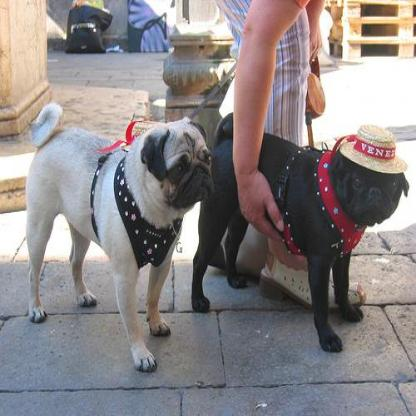pug: (191, 112, 409, 351), (21, 102, 214, 364)
